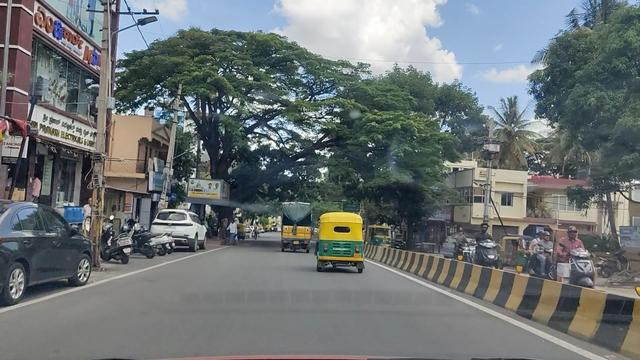HMV: (281, 202, 315, 250)
LMV: (319, 216, 363, 267)
